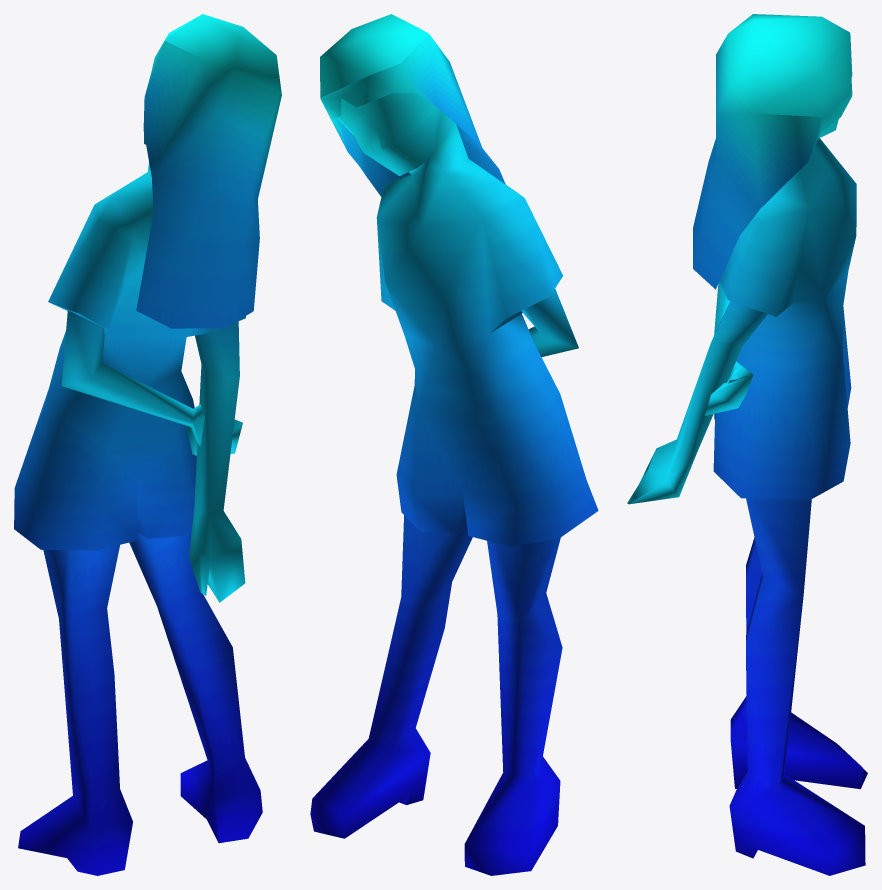
The model's file is kama2.ico.obj.
3 views of the same model, side by side, from view 1: azimuth 30°, elevation 25°; view 2: azimuth 150°, elevation 25°; view 3: azimuth 270°, elevation 25° (orthographic). The views are drawn at different scales.
Size of the model in its own units: 1.57 by 4.78 by 1.25.
Materials: 1 (1 with a texture image).
